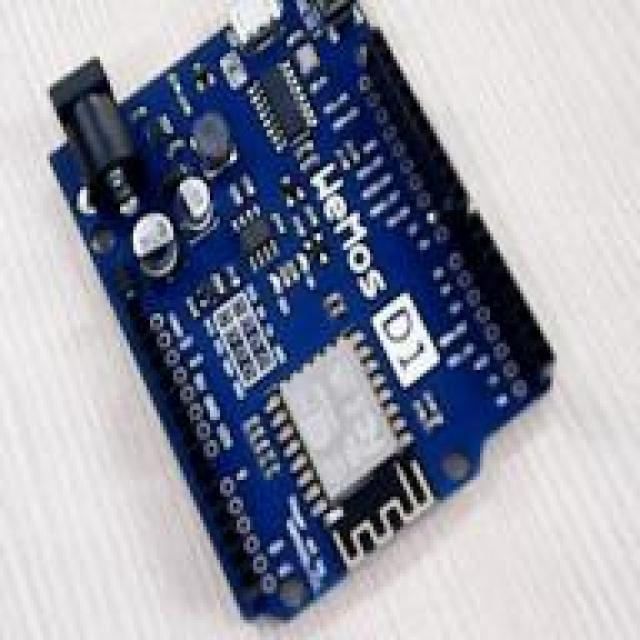Wemos: (51, 1, 551, 618)
